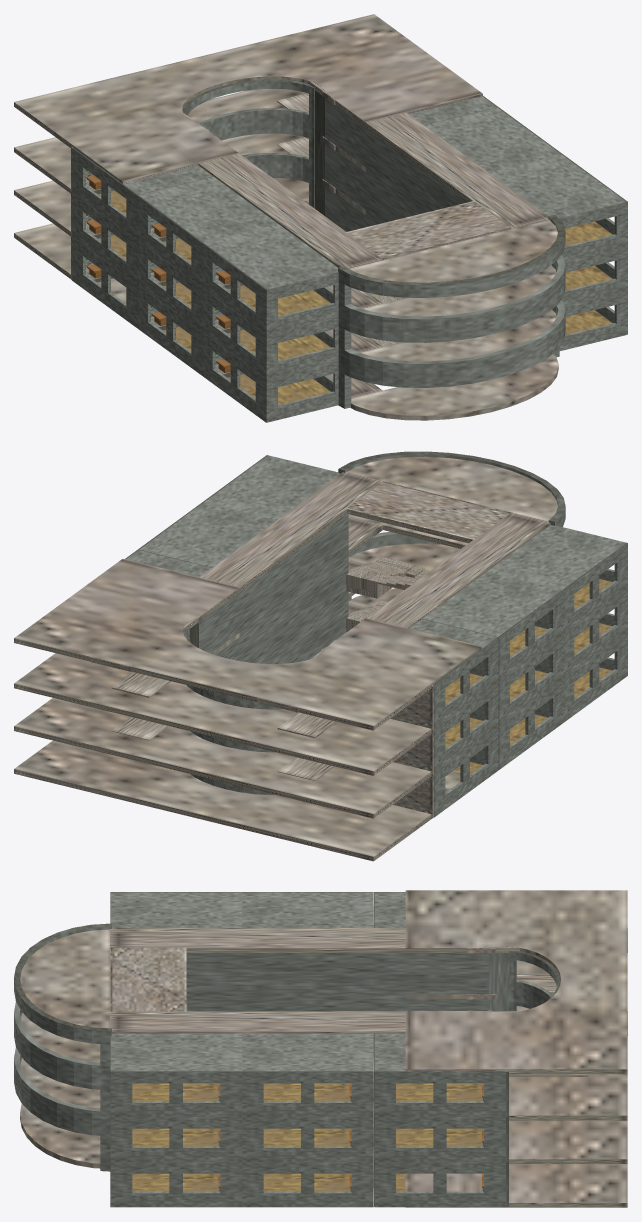
File: Zone.glb
3 renders of one model, top to bottom at view 1: azimuth 30°, elevation 25°; view 2: azimuth 150°, elevation 25°; view 3: azimuth 270°, elevation 25°, orthographic. The views are drawn at different scales.
Parts seen in each view (by area): view 1: Zone-Merged.Scaled; view 2: Zone-Merged.Scaled; view 3: Zone-Merged.Scaled.
Boxes of the visible parts, box(x1,y1,x2,y2) form: Zone-Merged.Scaled: box(14, 14, 627, 422); Zone-Merged.Scaled: box(14, 451, 627, 861); Zone-Merged.Scaled: box(14, 890, 627, 1207).
Bounding box in the file's own units: 51.8 × 19.5 × 74.68.
Materials: 39 (35 with a texture image).
